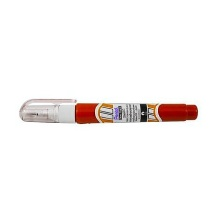correction_fluid: (17, 95, 201, 127)
